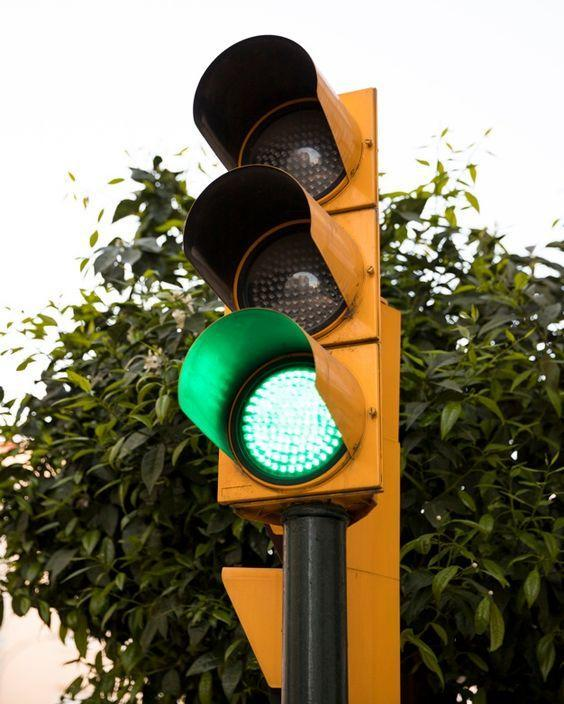green: (142, 40, 405, 502)
